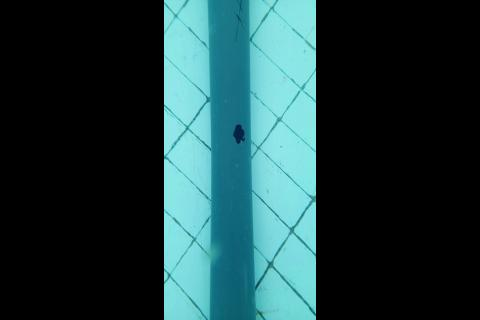kebocoran: (232, 122, 246, 145)
keretakan: (233, 0, 245, 43)
